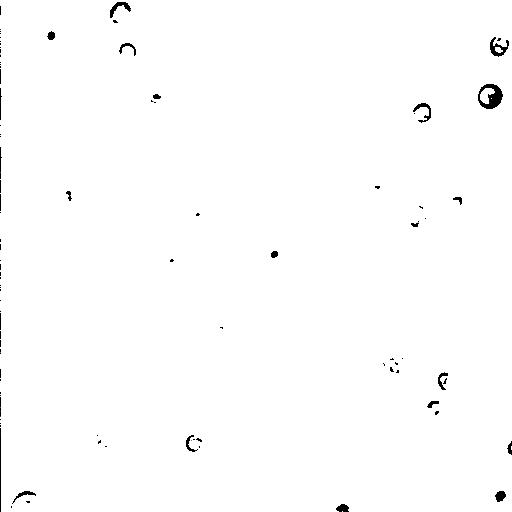micro-algae: (399, 330, 512, 453), (304, 227, 399, 320), (433, 413, 512, 508), (107, 19, 183, 94), (26, 0, 103, 71), (1, 459, 88, 511), (451, 133, 506, 189), (431, 97, 476, 143), (371, 8, 409, 51), (329, 480, 376, 512), (181, 198, 214, 235), (256, 231, 289, 267), (399, 202, 431, 234), (282, 111, 313, 143), (377, 350, 409, 378), (477, 81, 506, 111), (363, 165, 391, 196), (8, 488, 43, 512), (159, 249, 185, 281), (87, 431, 117, 458), (485, 480, 512, 510), (56, 183, 81, 211), (121, 338, 147, 364), (38, 23, 63, 49), (487, 32, 512, 58), (109, 1, 131, 25), (437, 369, 458, 393), (413, 101, 433, 123), (183, 433, 203, 453), (0, 88, 14, 116), (119, 41, 137, 61), (425, 398, 442, 418), (122, 0, 151, 11), (448, 194, 463, 211), (332, 502, 351, 512), (1, 0, 23, 8), (505, 439, 511, 457)
